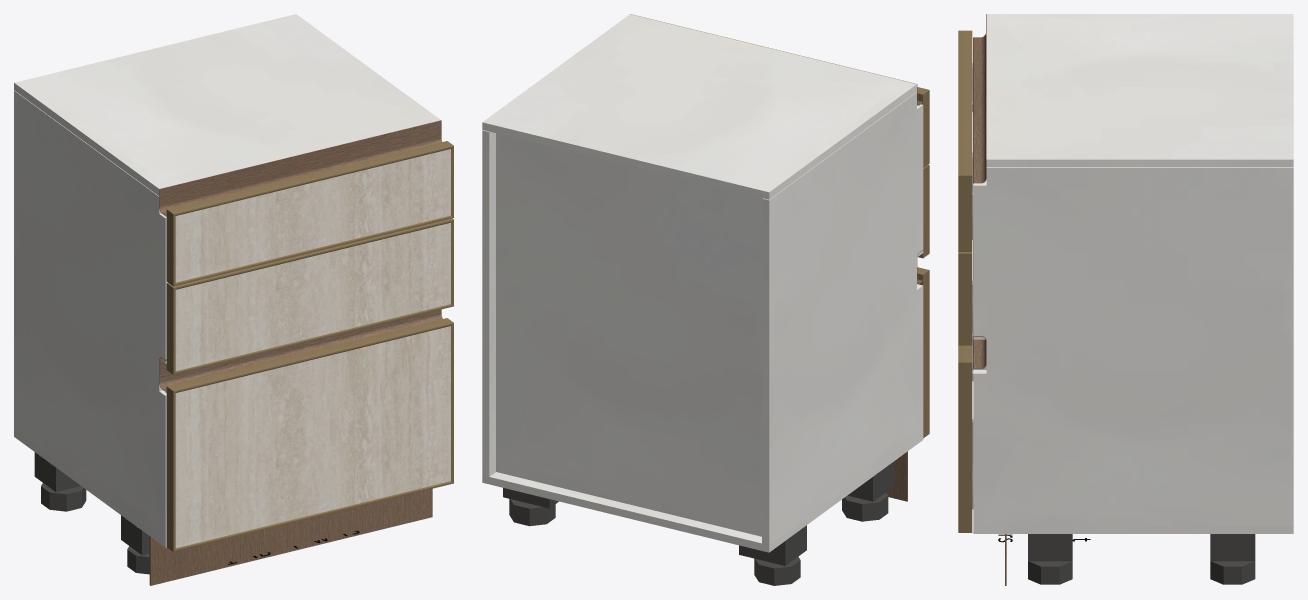
The model's file is BC-DW-CJ-ST-2LB-1HB-XXX-600-720-560-15.glb.
3 views of the same model, side by side, from view 1: azimuth 30°, elevation 25°; view 2: azimuth 150°, elevation 25°; view 3: azimuth 270°, elevation 25° (orthographic). The views are drawn at different scales.
Parts seen in each view (by area): view 1: TP_node_6, Object_node, TP_node_8, Object_node_1, Object_node_3, Object_node_85, ExtrSplGeo, ExtrSplGeo_node, Extrusion_node_6, Extrusion, Extrusion_node_1, Extrusion_node_2 (+9 smaller); view 2: TP, TP_node_6, TP_node_8, TP_node_5, TP_node_7, Extrusion_node_1, Plate, Foot, Foot_node_0, Foot_node, Plate_node_0, Object_node_85 (+1 smaller); view 3: TP_node_7, TP_node_8, TP_node_5, Extrusion_node, Extrusion_node_6, ExtrSplGeo, Extrusion_node_3, Plate_node, Plate_node_1, Extrusion_node_7, Foot_node, Foot_node_1 (+1 smaller).
Part boxes in pixels (x1,y1,x2,y2): TP_node_6: (14, 90, 167, 540); Object_node: (175, 326, 450, 547); TP_node_8: (14, 14, 440, 195); Object_node_1: (175, 222, 450, 370); Object_node_3: (175, 149, 450, 282); Object_node_85: (149, 488, 432, 585); ExtrSplGeo: (159, 120, 442, 216); ExtrSplGeo_node: (159, 309, 442, 392); Extrusion_node_6: (167, 141, 453, 215); Extrusion: (167, 318, 453, 392); Extrusion_node_1: (166, 386, 175, 551); Extrusion_node_2: (167, 218, 453, 289); TP: (496, 133, 762, 536); TP_node_6: (762, 92, 923, 544); TP_node_8: (482, 14, 916, 199); TP_node_5: (482, 433, 923, 552); TP_node_7: (482, 130, 495, 476); Extrusion_node_1: (918, 270, 929, 437); Plate: (739, 525, 806, 565); Foot: (754, 556, 800, 585); Foot_node_0: (842, 492, 888, 521); Foot_node: (509, 499, 555, 526); Plate_node_0: (847, 461, 894, 501); Object_node_85: (886, 451, 907, 501); TP_node_7: (973, 167, 1293, 526); TP_node_8: (986, 14, 1293, 167); TP_node_5: (973, 526, 1293, 533); Extrusion_node: (958, 362, 972, 532); Extrusion_node_6: (958, 30, 972, 175); ExtrSplGeo: (973, 14, 986, 183); Extrusion_node_3: (958, 253, 972, 345); Plate_node: (1210, 534, 1255, 561); Plate_node_1: (1028, 534, 1072, 561); Extrusion_node_7: (958, 175, 972, 251); Foot_node: (1210, 561, 1255, 584); Foot_node_1: (1028, 561, 1072, 584).
Size of what is drawn, in the model's own units: 0.6 by 0.82 by 0.5842.
Materials: 7 (3 with a texture image).
